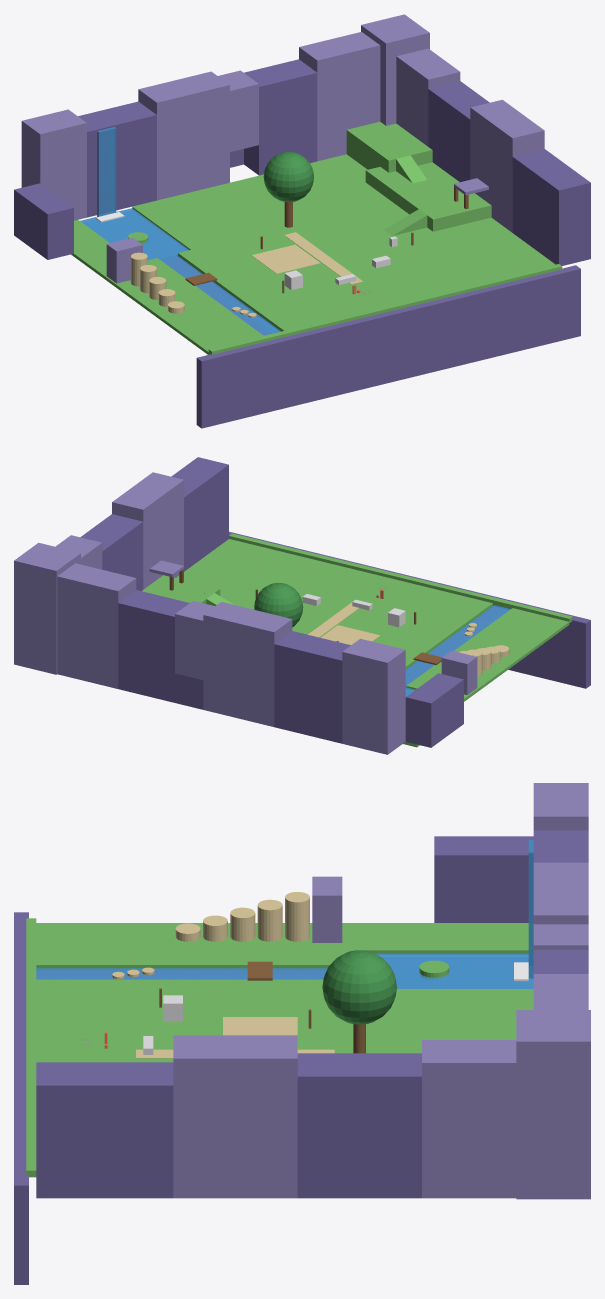
File: garden-greybox.obj
3 views of the same model, one above another, from view 1: azimuth 30°, elevation 25°; view 2: azimuth 150°, elevation 25°; view 3: azimuth 270°, elevation 25° (orthographic). The views are drawn at different scales.
Parts seen in each view (by area): view 1: Ground_FloorMain, Ground_SouthCliffFace, Cliffs_North3, Cliffs_East4, Cliffs_North5, Cliffs_North2, Cliffs_North4, Cliffs_East3, Cliffs_North1, Terraces_TerraceLow, Ground_FloorWestOuter, Cliffs_East2 (+19 smaller); view 2: Ground_FloorMain, Cliffs_North3, Cliffs_North5, Cliffs_North2, Cliffs_North1, Cliffs_North4, Cliffs_NECorner, Cliffs_East3, Cliffs_East4, Ground_SouthCliffFace, Cliffs_WestOutcrop, Cliffs_East2 (+14 smaller); view 3: Ground_FloorMain, Cliffs_East3, Cliffs_East4, Cliffs_East2, Cliffs_East1, Cliffs_NECorner, Ground_FloorWestOuter, Cliffs_WestOutcrop, Ground_FloorCreekWest, Ground_FloorCreekEast, Ground_SouthCliffFace, Water_PondWater (+17 smaller).
Boxes of the visible parts, x1=… form: Ground_FloorMain: x1=142, y1=154, x2=555, y2=324; Ground_SouthCliffFace: x1=196, y1=265, x2=580, y2=428; Cliffs_North3: x1=138, y1=71, x2=229, y2=200; Cliffs_East4: x1=512, y1=149, x2=590, y2=265; Cliffs_North5: x1=299, y1=32, x2=380, y2=161; Cliffs_North2: x1=78, y1=101, x2=156, y2=217; Cliffs_North4: x1=244, y1=59, x2=317, y2=175; Cliffs_East3: x1=470, y1=99, x2=544, y2=232; Cliffs_North1: x1=21, y1=109, x2=86, y2=220; Terraces_TerraceLow: x1=365, y1=162, x2=491, y2=231; Ground_FloorWestOuter: x1=71, y1=220, x2=242, y2=354; Cliffs_East2: x1=428, y1=81, x2=489, y2=182; Ground_FloorMain: x1=176, y1=539, x2=469, y2=648; Cliffs_North3: x1=203, y1=602, x2=292, y2=726; Cliffs_North5: x1=57, y1=563, x2=136, y2=688; Cliffs_North2: x1=274, y1=631, x2=350, y2=743; Cliffs_North1: x1=342, y1=638, x2=405, y2=754; Cliffs_North4: x1=118, y1=590, x2=189, y2=702; Cliffs_NECorner: x1=14, y1=542, x2=80, y2=674; Cliffs_East3: x1=112, y1=472, x2=183, y2=589; Cliffs_East4: x1=171, y1=457, x2=228, y2=571; Ground_SouthCliffFace: x1=229, y1=531, x2=590, y2=688; Cliffs_WestOutcrop: x1=405, y1=673, x2=463, y2=747; Cliffs_East2: x1=80, y1=514, x2=143, y2=590; Ground_FloorMain: x1=36, y1=996, x2=533, y2=1062; Cliffs_East3: x1=173, y1=1035, x2=297, y2=1198; Cliffs_East4: x1=36, y1=1062, x2=173, y2=1198; Cliffs_East2: x1=297, y1=1053, x2=421, y2=1198; Cliffs_East1: x1=422, y1=1040, x2=516, y2=1198; Cliffs_NECorner: x1=516, y1=1010, x2=590, y2=1199; Ground_FloorWestOuter: x1=36, y1=923, x2=528, y2=953; Cliffs_WestOutcrop: x1=434, y1=836, x2=533, y2=922; Ground_FloorCreekWest: x1=36, y1=950, x2=354, y2=968; Ground_FloorCreekEast: x1=36, y1=979, x2=323, y2=996; Ground_SouthCliffFace: x1=14, y1=912, x2=28, y2=1284; Water_PondWater: x1=375, y1=953, x2=533, y2=988.
Size of the model in its own units: 281 by 114 by 232.
